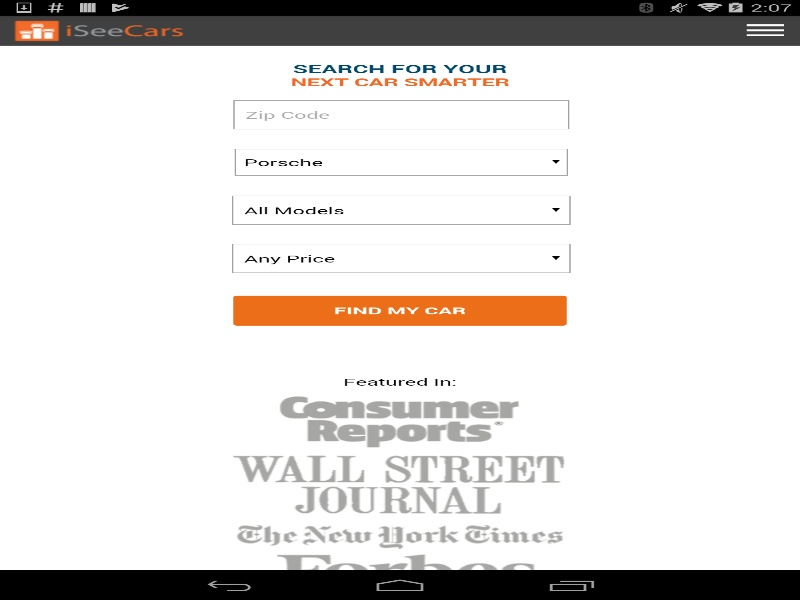Button: (233, 148, 569, 176), (233, 196, 569, 224), (233, 244, 569, 272)
Input: (233, 100, 569, 129)
